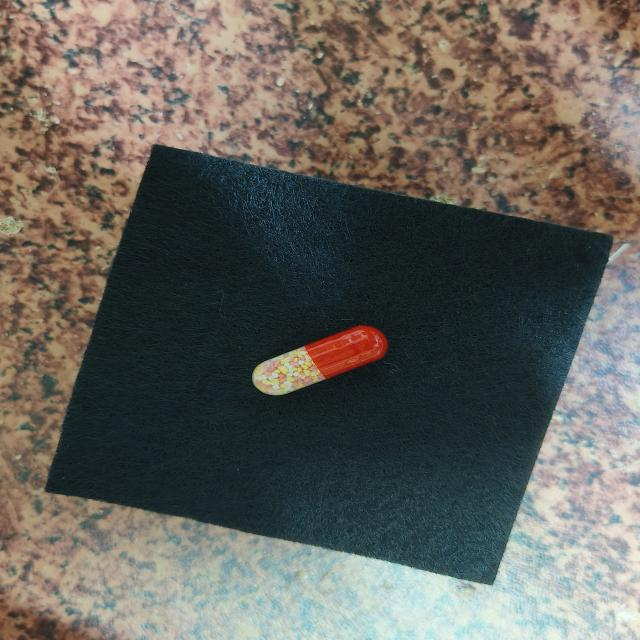Intact Capsule: (252, 325, 388, 395)
